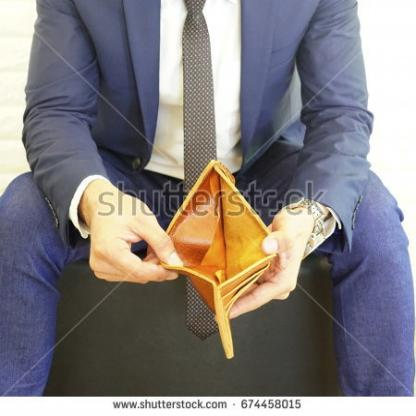monedero: (156, 158, 280, 364)
